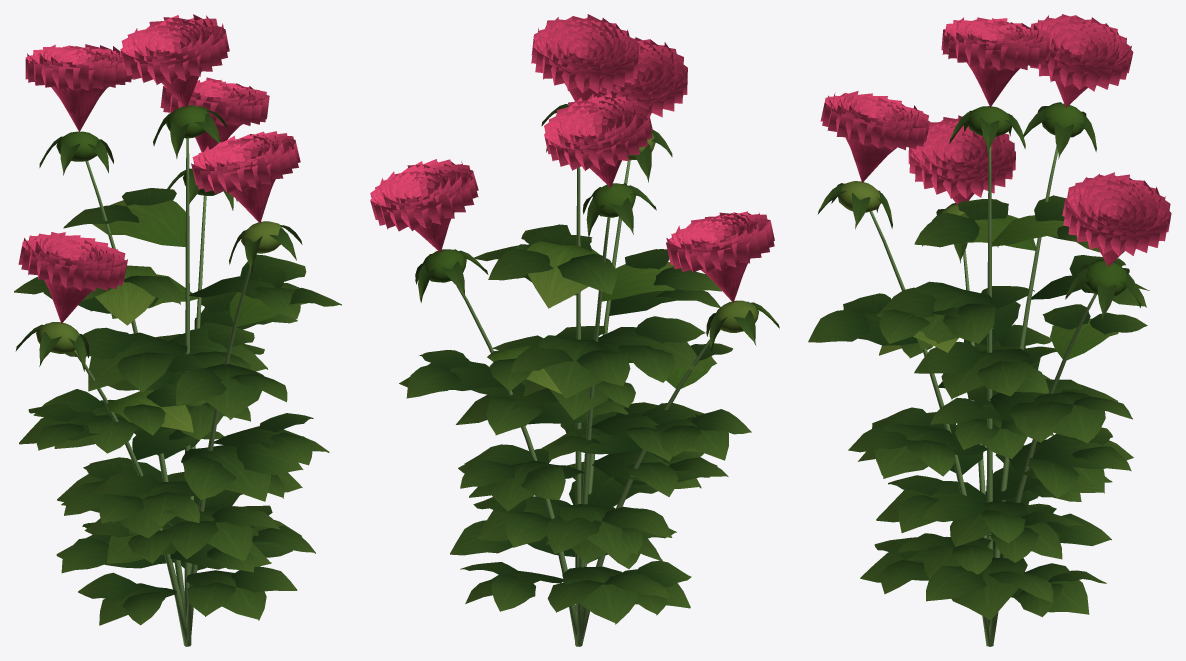
Rendered from dahlia-09-lod.glb.
The picture shows the model from 3 angles, left to right: view 1: azimuth 30°, elevation 25°; view 2: azimuth 150°, elevation 25°; view 3: azimuth 270°, elevation 25°; orthographic projection.
Visible parts, largest first — view 1: dahlia_stage_09_leaf_veins.017, dahlia_stage_09_dahlia_petal.017, dahlia_stage_09_young_leaf.017, dahlia_stage_09_stem_fibres.017; view 2: dahlia_stage_09_leaf_veins.017, dahlia_stage_09_dahlia_petal.017, dahlia_stage_09_young_leaf.017, dahlia_stage_09_stem_fibres.017; view 3: dahlia_stage_09_leaf_veins.017, dahlia_stage_09_dahlia_petal.017, dahlia_stage_09_young_leaf.017, dahlia_stage_09_stem_fibres.017.
Boxes of the visible parts, x1=… form: dahlia_stage_09_leaf_veins.017: x1=14, y1=106, x2=341, y2=625; dahlia_stage_09_dahlia_petal.017: x1=18, y1=14, x2=300, y2=323; dahlia_stage_09_young_leaf.017: x1=36, y1=105, x2=307, y2=432; dahlia_stage_09_stem_fibres.017: x1=73, y1=138, x2=250, y2=646; dahlia_stage_09_leaf_veins.017: x1=399, y1=104, x2=779, y2=624; dahlia_stage_09_dahlia_petal.017: x1=370, y1=14, x2=774, y2=302; dahlia_stage_09_young_leaf.017: x1=423, y1=105, x2=758, y2=394; dahlia_stage_09_stem_fibres.017: x1=456, y1=160, x2=720, y2=646; dahlia_stage_09_leaf_veins.017: x1=808, y1=102, x2=1149, y2=620; dahlia_stage_09_dahlia_petal.017: x1=820, y1=14, x2=1171, y2=266; dahlia_stage_09_young_leaf.017: x1=838, y1=103, x2=1126, y2=360; dahlia_stage_09_stem_fibres.017: x1=869, y1=145, x2=1096, y2=646.
Bounding box in the file's own units: 0.3923 × 0.7363 × 0.3929.
Materials: 4 (3 with a texture image).
